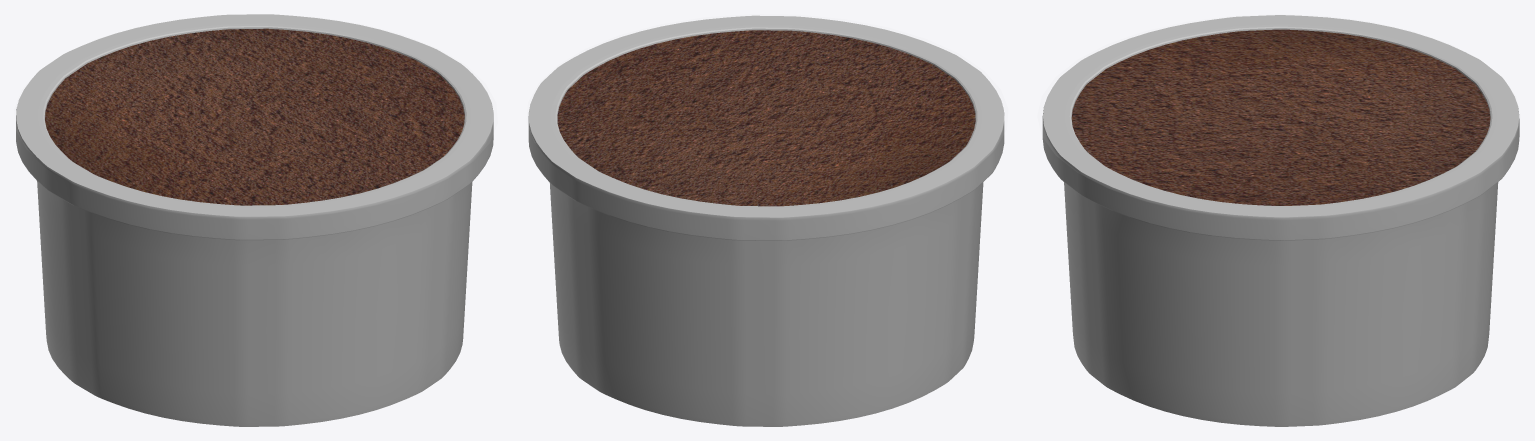
File: Intenso_capsule_coffee.glb
3 views of the same model, side by side, from view 1: azimuth 30°, elevation 25°; view 2: azimuth 150°, elevation 25°; view 3: azimuth 270°, elevation 25° (orthographic).
Parts seen in each view (by area): view 1: Capsule - body, Capsule - coffee part; view 2: Capsule - body, Capsule - coffee part; view 3: Capsule - body, Capsule - coffee part.
Part boxes in pixels (x1,y1,x2,y2): Capsule - body: [16, 14, 493, 426]; Capsule - coffee part: [45, 28, 464, 205]; Capsule - body: [528, 15, 1004, 426]; Capsule - coffee part: [557, 30, 975, 206]; Capsule - body: [1042, 15, 1519, 426]; Capsule - coffee part: [1071, 29, 1490, 205].
Size of the model in its own units: 2.06 by 1.05 by 2.06.
3 materials, 1 textured.
